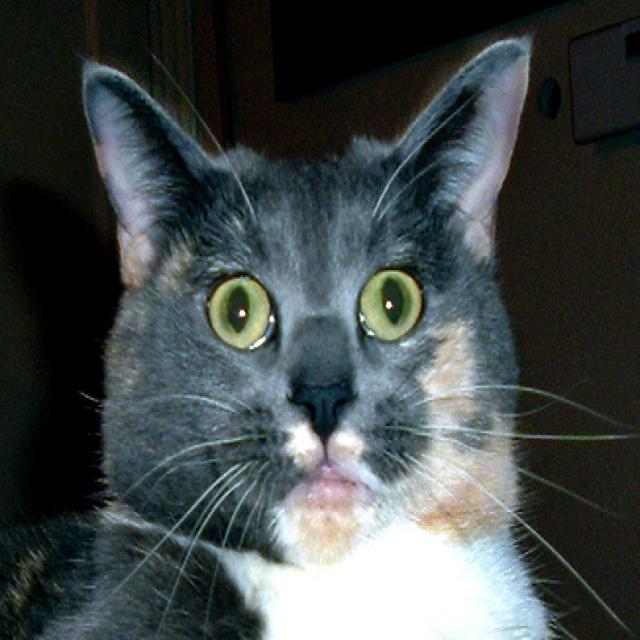left eye: (356, 263, 426, 344)
